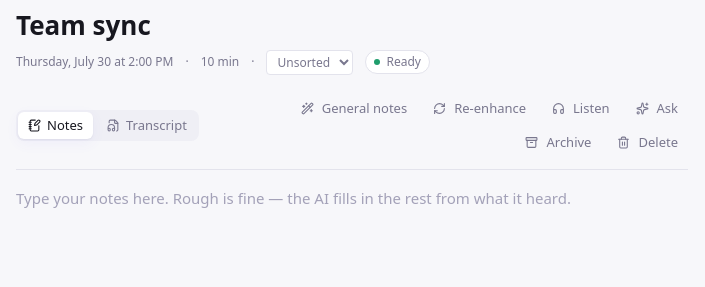
Test case: Listen › is closed until you press it
The image size is (705, 287).
Click the button "Listen": (581, 108) [542, 94, 620, 122]
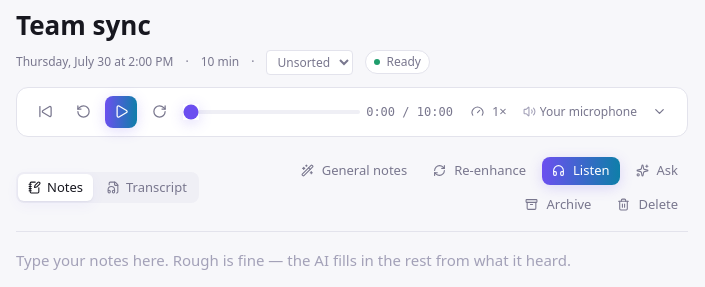
Expected: the element named "playback" is shown, [16, 86, 688, 136]
